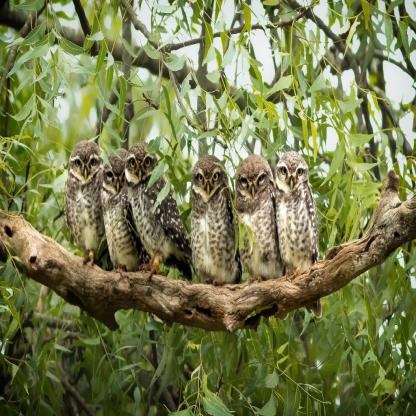owl: (124, 89, 242, 415), (37, 77, 158, 330), (271, 93, 355, 414), (229, 115, 322, 398), (86, 115, 175, 353), (187, 87, 244, 388)
